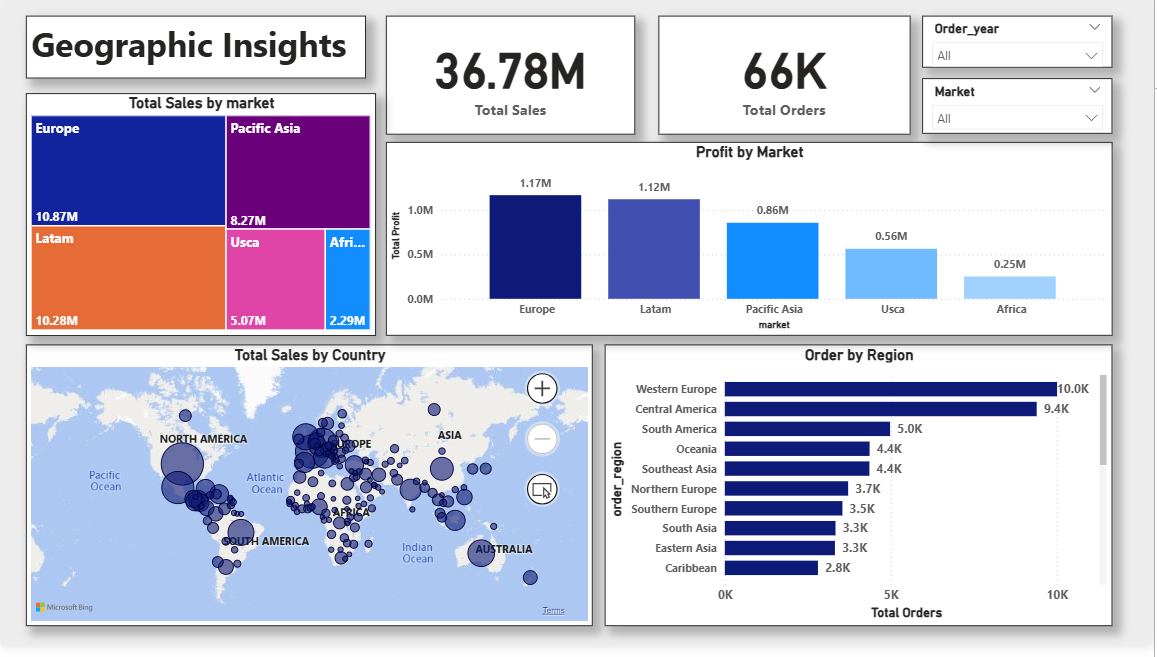

What the dashboard file says about the page in this screenshot:
{"tool":"powerbi","page":{"name":"Geographic Insights","canvas":[1280,720],"ordinal":3},"visuals":[{"type":"card","fields":{"Values":["fact_orders.Total Sales"]},"box":[428.1,20.6,277.2,131.7],"z":0},{"type":"textbox","box":[27.4,20.6,377.4,70],"z":1000},{"type":"card","fields":{"Values":["fact_orders.Total Orders"]},"box":[730,20.6,279.9,131.7],"z":2000},{"type":"map","title":"Total Sales by Country","fields":{"Category":["fact_orders.order_country"],"Size":["fact_orders.Total Sales"]},"box":[27.4,385.6,629.8,312.9],"z":3000},{"type":"treemap","fields":{"Group":["fact_orders.market"],"Values":["fact_orders.Total Sales"]},"box":[27.8,106.9,388.9,269.4],"z":4000},{"type":"clusteredBarChart","title":"Order by Region","fields":{"Category":["fact_orders.order_region"],"Y":["fact_orders.Total Orders"]},"box":[671,385.6,564,312.9],"z":5000},{"type":"clusteredColumnChart","title":"Profit by Market","fields":{"Category":["fact_orders.market"],"Y":["fact_orders.Total Profit"]},"box":[428.1,160.5,806.9,215.4],"z":6000},{"type":"slicer","fields":{"Values":["fact_orders.order_year"]},"box":[1023.7,20.6,211.3,57.6],"z":7000},{"type":"slicer","fields":{"Values":["fact_orders.market"]},"box":[1023.7,90.6,211.3,61.7],"z":8000}]}

Visuals, with their boxes in screenshot pixels (x1, y1, x2, y2), scaled from the page's 1280x720 canvas onto the 1157x657 screenshot:
card - fact_orders.Total Sales: 387 19 638 139
textbox: 25 19 366 83
card - fact_orders.Total Orders: 660 19 913 139
"Total Sales by Country" map: 25 352 594 637
treemap - fact_orders.market x fact_orders.Total Sales: 25 98 377 343
"Order by Region" clusteredBarChart: 607 352 1116 637
"Profit by Market" clusteredColumnChart: 387 146 1116 343
slicer - fact_orders.order_year: 925 19 1116 71
slicer - fact_orders.market: 925 83 1116 139
